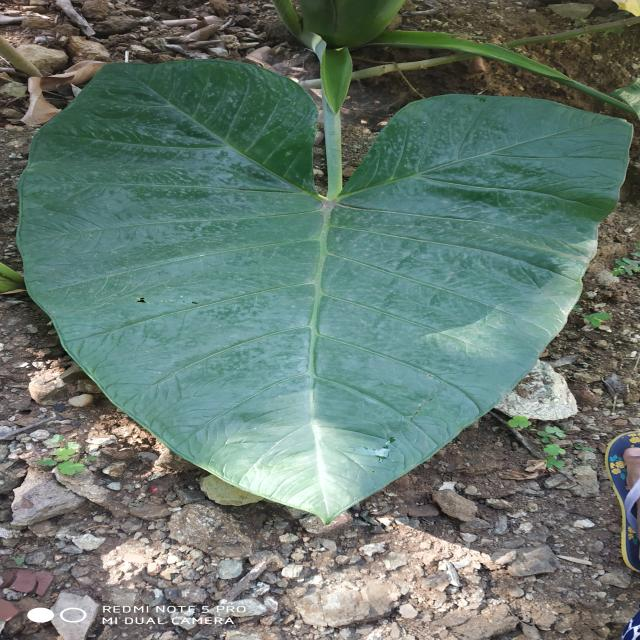taro: (18, 60, 631, 521)
